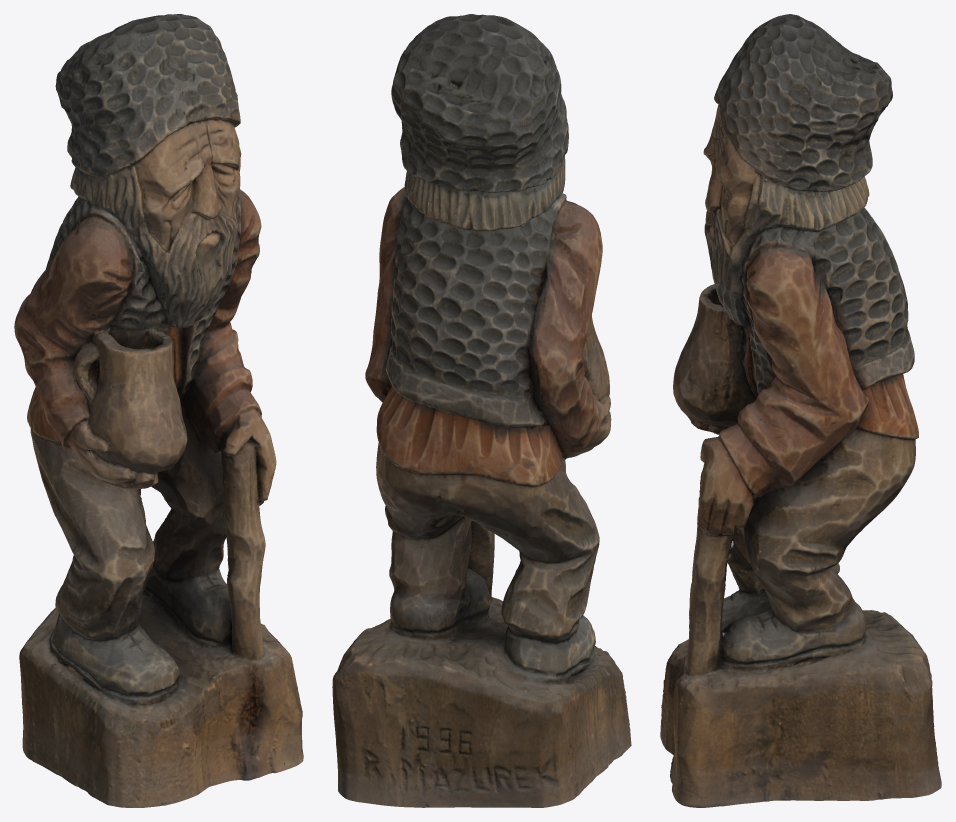
File: MPLW_E_1193_lowpoly.glb
3 renders of one model, left to right at view 1: azimuth 30°, elevation 25°; view 2: azimuth 150°, elevation 25°; view 3: azimuth 270°, elevation 25°, orthographic.
Visible parts, largest first — view 1: MPLW_E_1193_lowpoly; view 2: MPLW_E_1193_lowpoly; view 3: MPLW_E_1193_lowpoly.
Boxes of the visible parts, left/top/right/bottom form: MPLW_E_1193_lowpoly: left=14, top=14, right=303, bottom=807; MPLW_E_1193_lowpoly: left=332, top=14, right=631, bottom=807; MPLW_E_1193_lowpoly: left=660, top=14, right=941, bottom=807.
Bounding box in the file's own units: 0.0862 × 0.2785 × 0.0969.
Materials: 1 (1 with a texture image).
